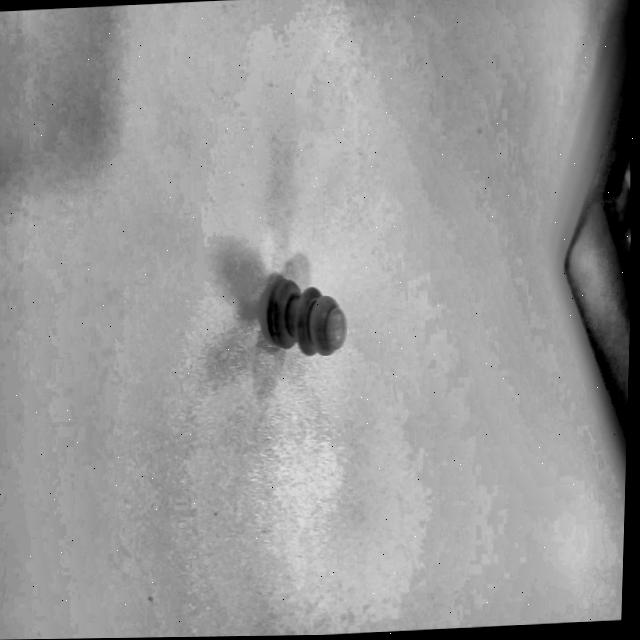white-bishop: (244, 236, 367, 416)
